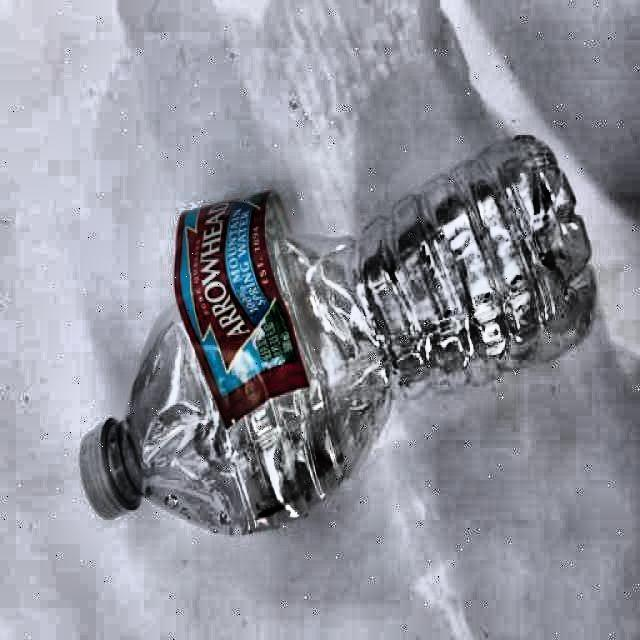plastic: (80, 135, 598, 538)
